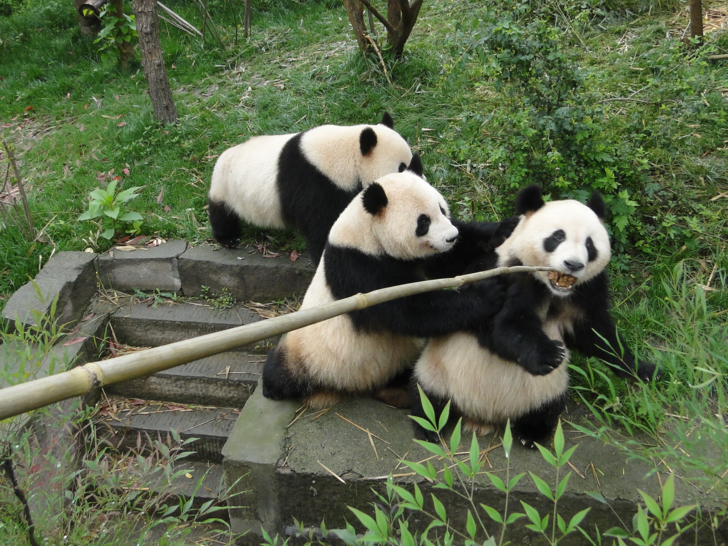panda: (412, 185, 673, 452), (261, 152, 502, 414), (206, 109, 423, 267)
